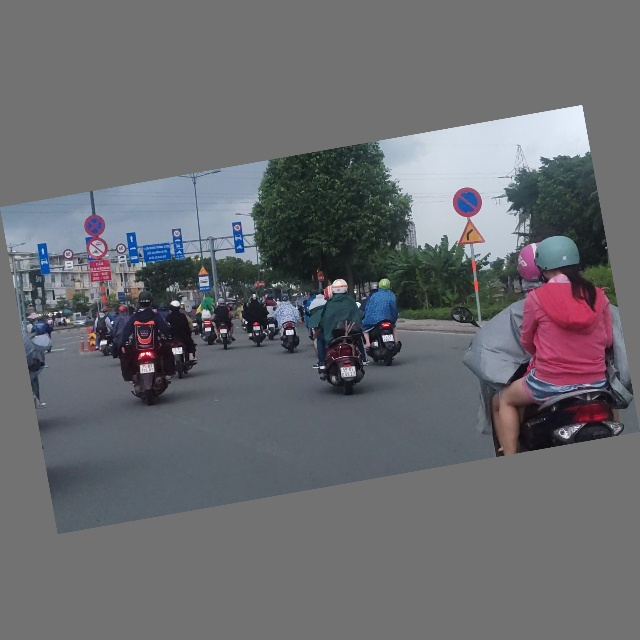I.434a: (196, 275, 212, 294)
P.111: (85, 236, 110, 262)
P.127*50: (172, 229, 181, 239), (233, 224, 242, 232)
P.127*60: (115, 243, 127, 255)
P.127*80: (62, 249, 74, 261)
P.130: (82, 212, 107, 239)
P.131a: (448, 185, 484, 221)
S.505a*Xe tai va cong: (117, 255, 127, 265)
W.201b: (452, 217, 486, 248), (196, 265, 211, 278)
